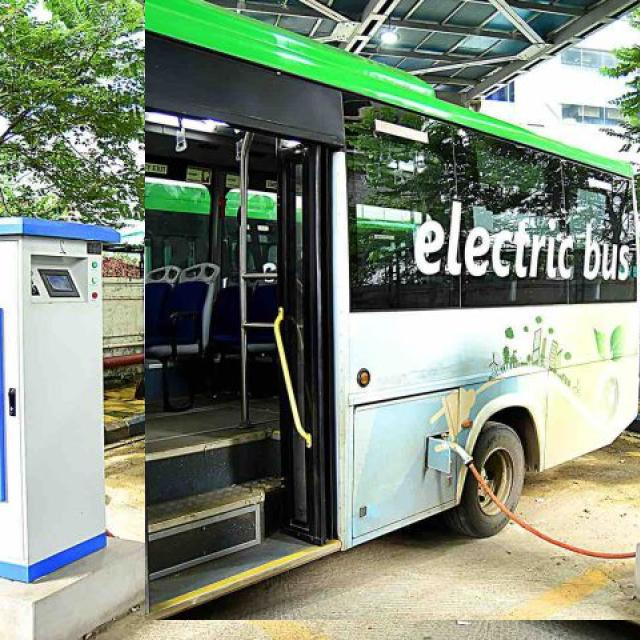bus: (145, 0, 640, 620)
